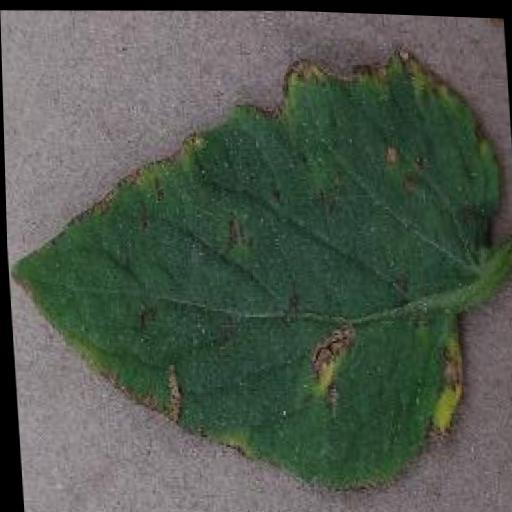Bacterial Spot: (0, 19, 512, 512)
